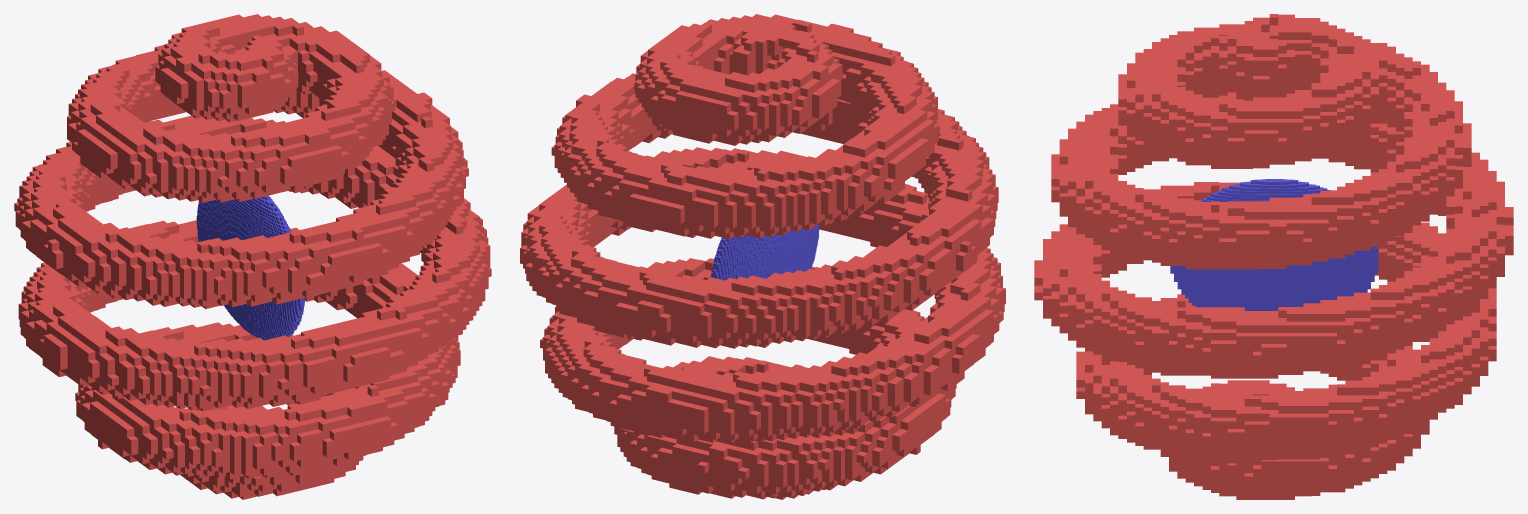
The model's file is proteccme.fbx.
3 renders of one model, left to right at view 1: azimuth 30°, elevation 25°; view 2: azimuth 150°, elevation 25°; view 3: azimuth 270°, elevation 25°, orthographic.
Parts seen in each view (by area): view 1: A_proteccme.spiral, A_proteccme.core; view 2: A_proteccme.spiral, A_proteccme.core; view 3: A_proteccme.spiral, A_proteccme.core.
Part boxes in pixels (x1,y1,x2,y2): A_proteccme.spiral: (14, 14, 491, 499); A_proteccme.core: (196, 195, 304, 340); A_proteccme.spiral: (520, 14, 1005, 499); A_proteccme.core: (710, 224, 819, 346); A_proteccme.spiral: (1034, 14, 1513, 499); A_proteccme.core: (1170, 179, 1378, 310).
Bounding box in the file's own units: 228 × 228 × 228.
